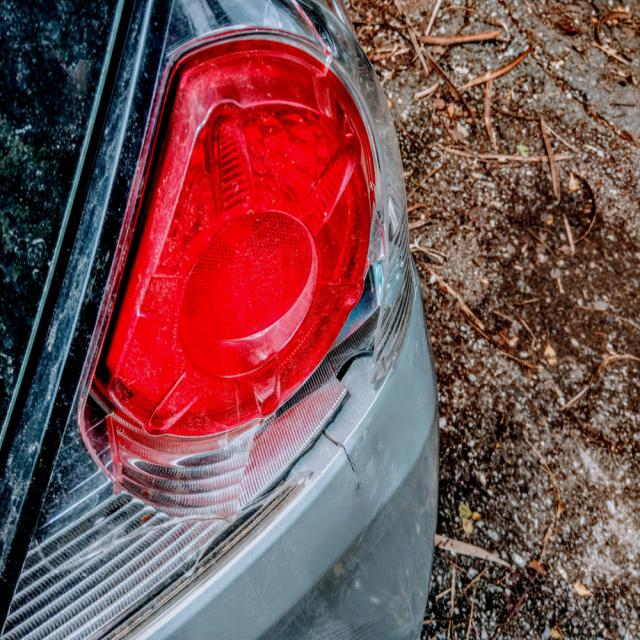Phare abime: (80, 193, 392, 527)
